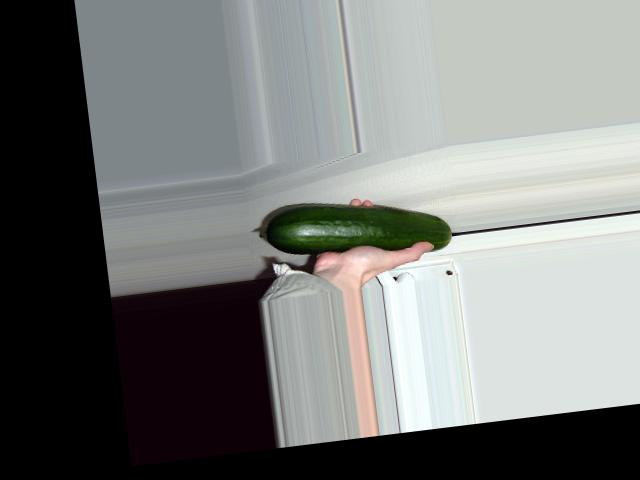cucumber: (256, 185, 453, 271)
